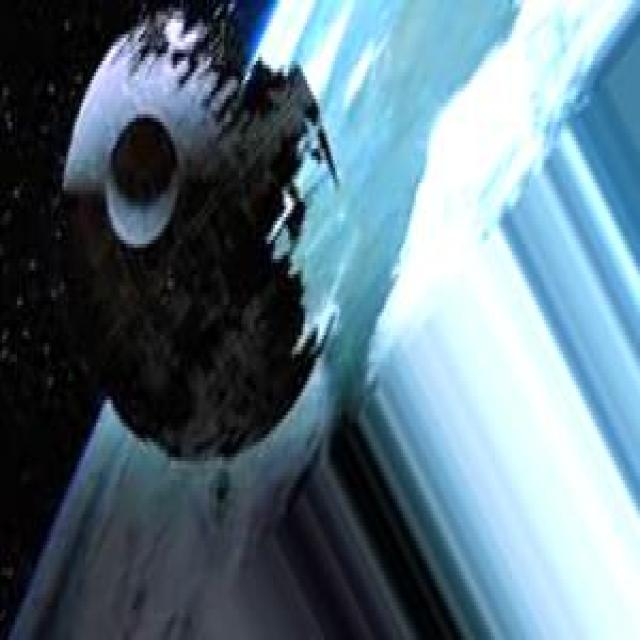deathstar: (67, 7, 337, 455)
